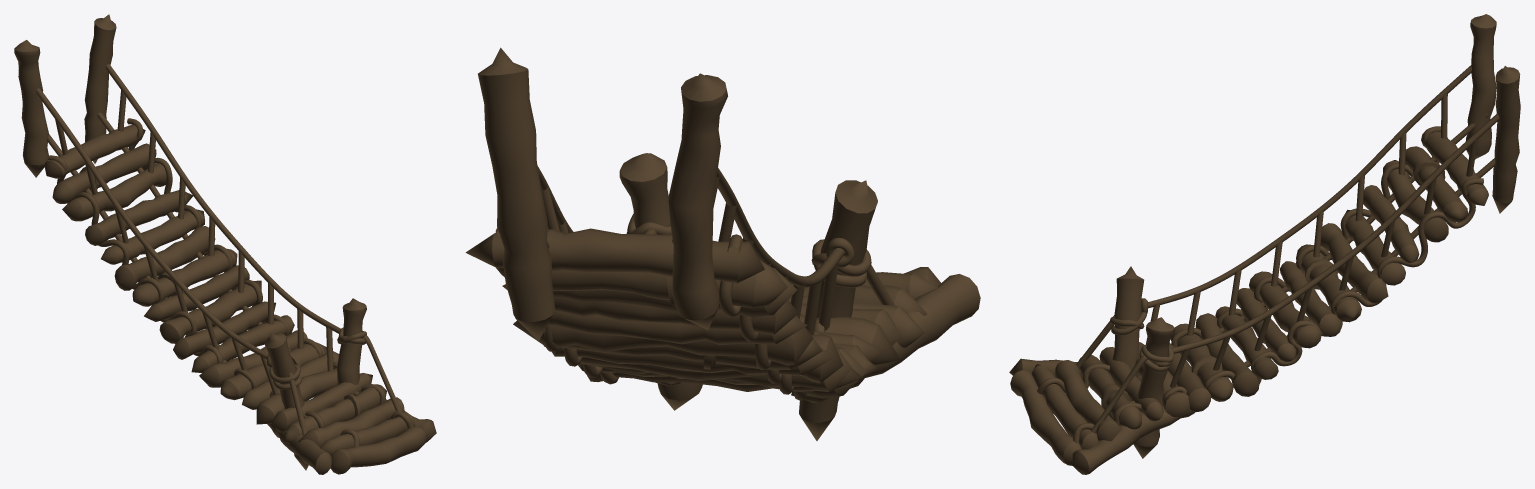
Rendered from Skinny Rope Bridge.fbx.
3 views of the same model, side by side, from view 1: azimuth 30°, elevation 25°; view 2: azimuth 150°, elevation 25°; view 3: azimuth 270°, elevation 25° (orthographic). The views are drawn at different scales.
Parts seen in each view (by area): view 1: bridge_logs_geo, bridge_ropes_geo; view 2: bridge_logs_geo, bridge_ropes_geo; view 3: bridge_logs_geo, bridge_ropes_geo.
Part boxes in pixels (x1,y1,x2,y2): bridge_logs_geo: (14, 14, 436, 474); bridge_ropes_geo: (36, 64, 413, 446); bridge_logs_geo: (465, 47, 980, 440); bridge_ropes_geo: (495, 166, 895, 400); bridge_logs_geo: (1009, 14, 1520, 474); bridge_ropes_geo: (1037, 65, 1499, 443).
Size of the model in its own units: 9.24 by 12.5 by 15.94.
